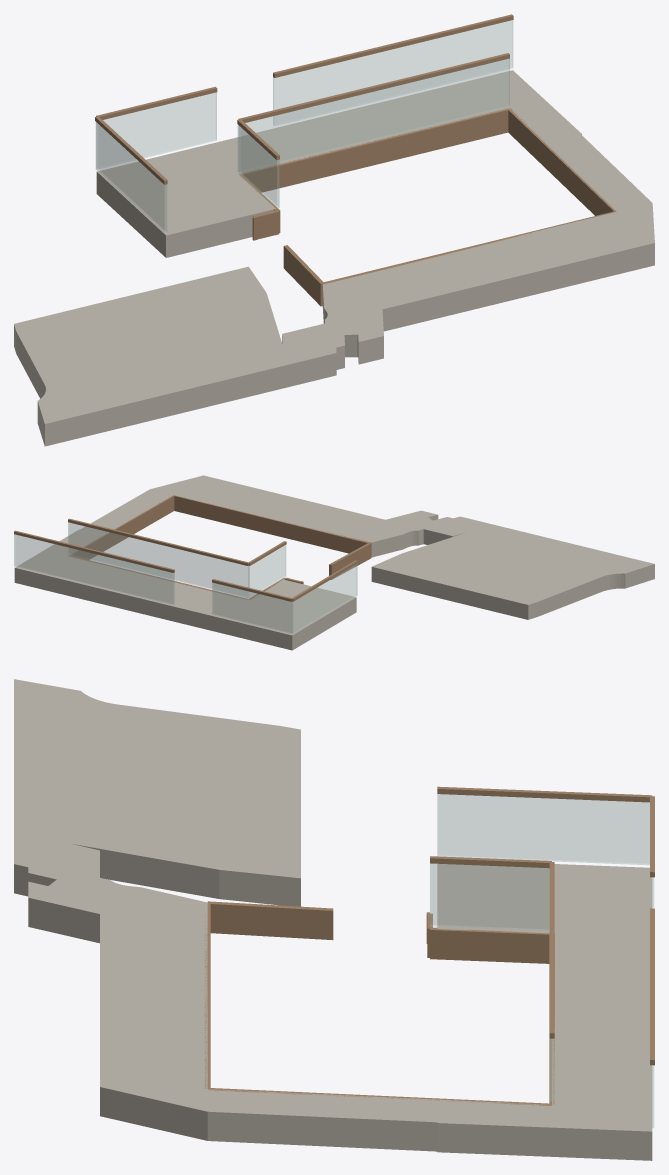
File: PERIMETER_797_r003.glb
The picture shows the model from 3 angles, top to bottom: view 1: azimuth 30°, elevation 25°; view 2: azimuth 150°, elevation 25°; view 3: azimuth 270°, elevation 25°; orthographic projection. The views are drawn at different scales.
Visible parts, largest first — view 1: G2P_797_TERRACE_r003, G2P_797_RearGuardGlass_0, G2P_797_OuterGuard_2, G2P_797_PitEdge_2_0, G2P_797_OuterGuard_1, G2P_797_OuterGuard_0, G2P_797_PitEdge_1_0, G2P_797_RearGuardGlass_1, G2P_797_RearGuardRail_0, G2P_797_OuterRail_2, G2P_797_PitEdge_5_0, G2P_797_OuterRail_1 (+1 smaller); view 2: G2P_797_TERRACE_r003, G2P_797_RearGuardGlass_0, G2P_797_OuterGuard_2, G2P_797_PitEdge_0_0, G2P_797_OuterGuard_1, G2P_797_OuterGuard_0, G2P_797_PitEdge_1_0, G2P_797_RearGuardGlass_1, G2P_797_RearGuardRail_0, G2P_797_OuterRail_2, G2P_797_PitEdge_5_0, G2P_797_OuterRail_1 (+2 smaller); view 3: G2P_797_TERRACE_r003, G2P_797_OuterGuard_0, G2P_797_RearGuardGlass_1, G2P_797_PitEdge_5_0, G2P_797_PitEdge_3_0, G2P_797_OuterRail_0, G2P_797_RearGuardRail_0, G2P_797_PitEdge_0_0, G2P_797_RearGuardRail_1, G2P_797_PitEdge_1_0, G2P_797_OuterRail_2.
Part boxes in pixels (<box>): G2P_797_TERRACE_r003: <box>14,70,654,446</box>; G2P_797_RearGuardGlass_0: <box>239,58,509,172</box>; G2P_797_OuterGuard_2: <box>273,20,512,125</box>; G2P_797_PitEdge_2_0: <box>239,108,508,192</box>; G2P_797_OuterGuard_1: <box>96,92,216,169</box>; G2P_797_OuterGuard_0: <box>96,122,166,232</box>; G2P_797_PitEdge_1_0: <box>507,108,615,215</box>; G2P_797_RearGuardGlass_1: <box>238,125,279,208</box>; G2P_797_RearGuardRail_0: <box>238,53,509,122</box>; G2P_797_OuterRail_2: <box>273,14,513,77</box>; G2P_797_PitEdge_5_0: <box>283,245,323,306</box>; G2P_797_OuterRail_1: <box>96,86,217,119</box>; G2P_797_TERRACE_r003: <box>14,475,654,650</box>; G2P_797_RearGuardGlass_0: <box>68,522,249,597</box>; G2P_797_OuterGuard_2: <box>14,534,174,604</box>; G2P_797_PitEdge_0_0: <box>173,495,371,557</box>; G2P_797_OuterGuard_1: <box>212,583,292,633</box>; G2P_797_OuterGuard_0: <box>291,564,357,633</box>; G2P_797_PitEdge_1_0: <box>68,495,174,559</box>; G2P_797_RearGuardGlass_1: <box>248,545,285,597</box>; G2P_797_RearGuardRail_0: <box>68,518,249,565</box>; G2P_797_OuterRail_2: <box>14,530,174,572</box>; G2P_797_PitEdge_5_0: <box>329,543,371,579</box>; G2P_797_OuterRail_1: <box>212,579,292,601</box>; G2P_797_TERRACE_r003: <box>14,679,652,1160</box>; G2P_797_OuterGuard_0: <box>437,794,649,864</box>; G2P_797_RearGuardGlass_1: <box>430,863,549,930</box>; G2P_797_PitEdge_5_0: <box>207,901,333,939</box>; G2P_797_PitEdge_3_0: <box>430,927,549,963</box>; G2P_797_OuterRail_0: <box>437,786,652,802</box>; G2P_797_RearGuardRail_0: <box>549,862,554,1038</box>; G2P_797_PitEdge_0_0: <box>204,902,210,1088</box>; G2P_797_RearGuardRail_1: <box>430,856,551,868</box>; G2P_797_PitEdge_1_0: <box>208,1088,551,1105</box>; G2P_797_OuterRail_2: <box>650,908,654,1065</box>.
Bounding box in the file's own units: 14.93 × 1.55 × 8.93.
